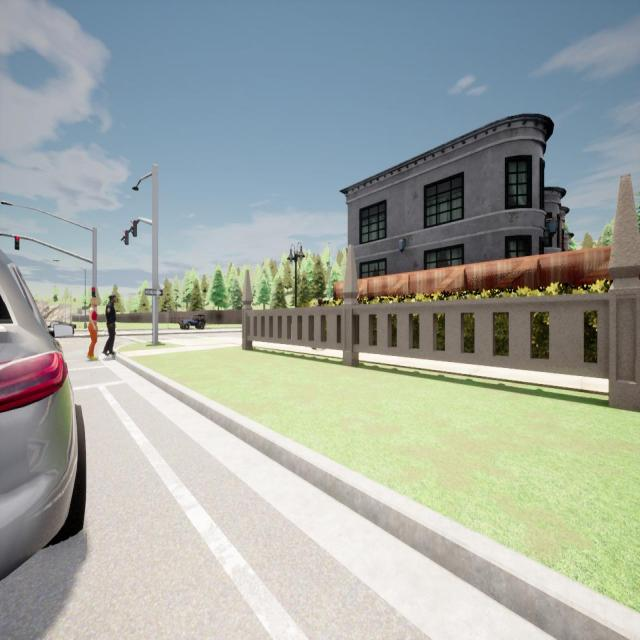Pedestrian: (86, 298, 99, 360), (103, 295, 116, 356), (312, 296, 324, 308)
Traffic_Signs: (145, 288, 163, 296), (77, 308, 82, 314)
Vehicle: (0, 248, 86, 582), (44, 320, 77, 335), (180, 314, 206, 330)
traffic_light: (130, 220, 137, 237), (123, 229, 129, 245), (14, 236, 20, 250), (92, 287, 95, 297)
